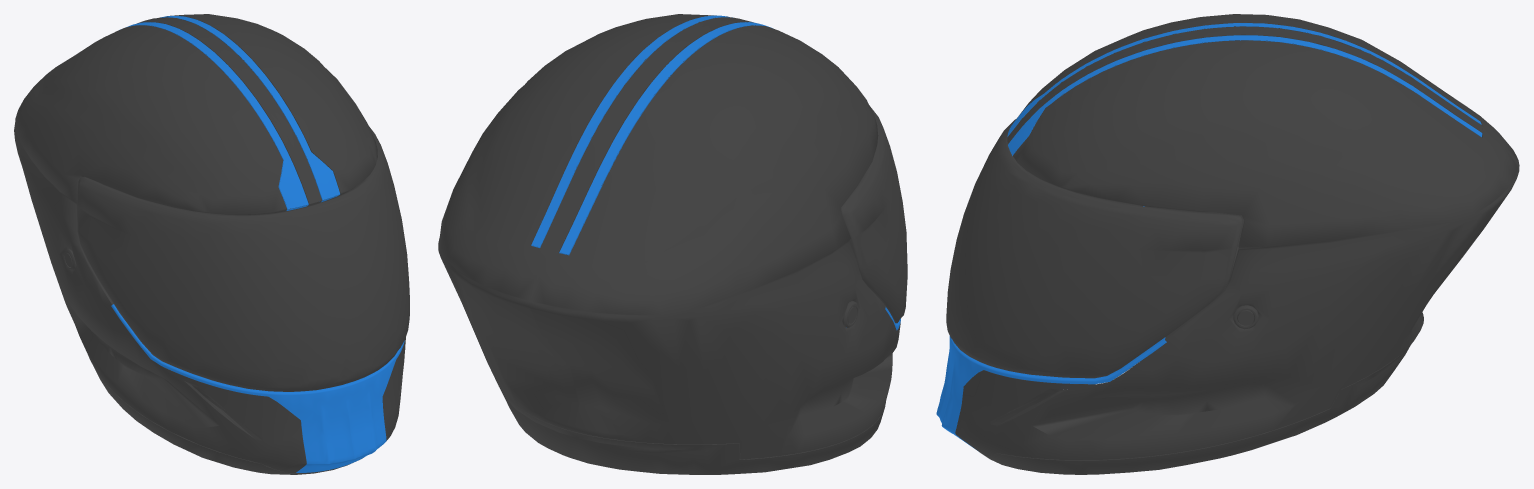
The picture shows the model from 3 angles, left to right: view 1: azimuth 30°, elevation 25°; view 2: azimuth 150°, elevation 25°; view 3: azimuth 270°, elevation 25°; orthographic projection. The views are drawn at different scales.
Parts seen in each view (by area): view 1: helmet; view 2: helmet; view 3: helmet.
Boxes of the visible parts, <box> form: helmet: <box>14,14,409,474</box>; helmet: <box>438,14,907,474</box>; helmet: <box>936,14,1519,474</box>.
Bounding box in the file's own units: 0.2066 × 0.2377 × 0.3139.
1 material, 1 textured.
